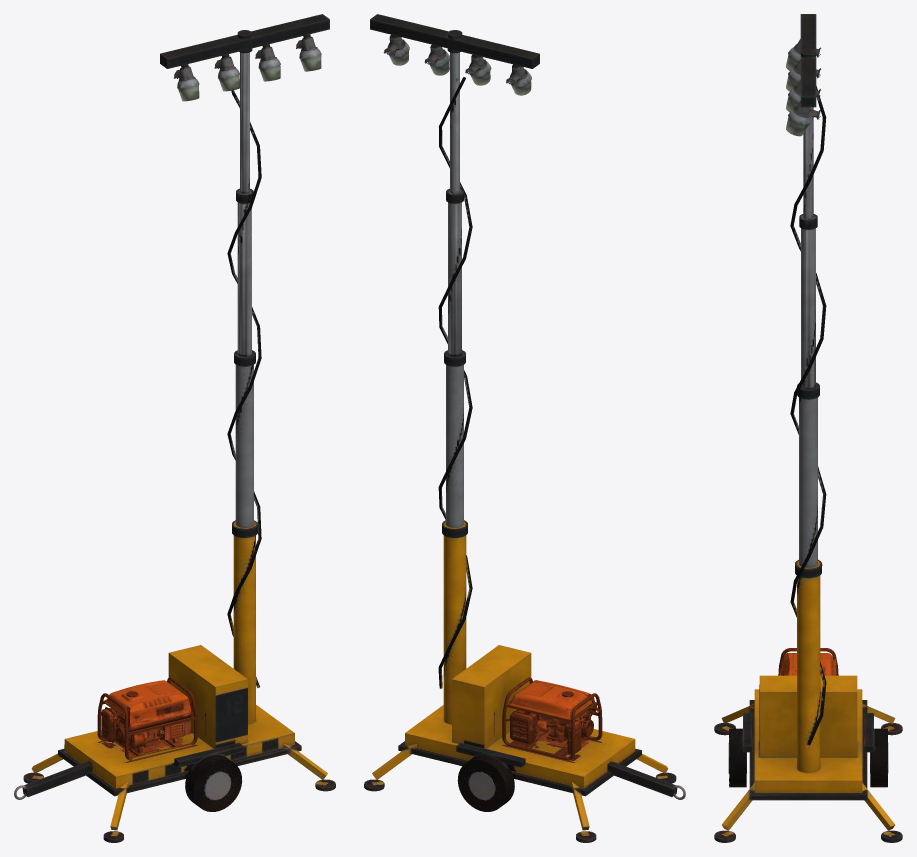
Rendered from floodlight_tower.glb.
3 views of the same model, side by side, from view 1: azimuth 30°, elevation 25°; view 2: azimuth 150°, elevation 25°; view 3: azimuth 270°, elevation 25° (orthographic). The views are drawn at different scales.
Visible parts, largest first — view 1: floodlight_tower; view 2: floodlight_tower; view 3: floodlight_tower.
Part boxes in pixels (x1=…): floodlight_tower: x1=14, y1=14, x2=335, y2=842; floodlight_tower: x1=364, y1=14, x2=685, y2=842; floodlight_tower: x1=714, y1=14, x2=902, y2=842.
Bounding box in the file's own units: 3.83 × 8.62 × 1.92.
2 materials, 2 textured.
